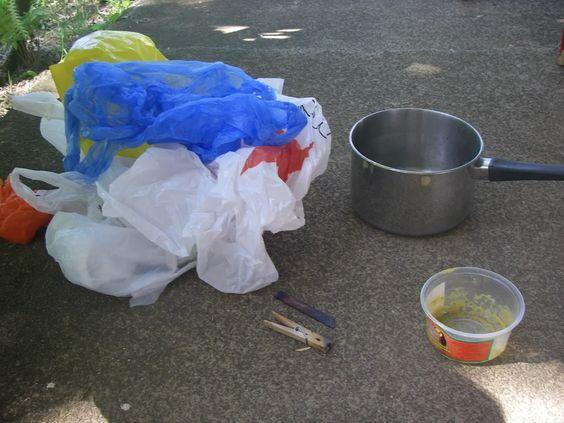LDPE: (105, 73, 335, 297), (59, 61, 308, 182), (12, 163, 197, 309), (46, 24, 179, 163), (0, 165, 54, 244)
PP: (419, 265, 527, 365)
